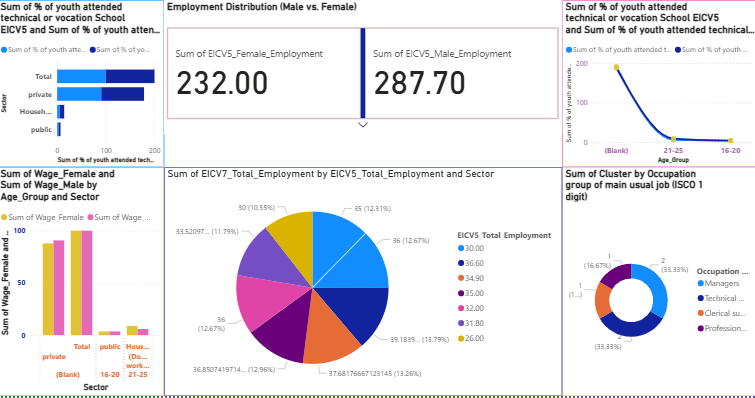

This screenshot's page, from the dashboard's own definition file:
{"tool":"powerbi","page":{"name":"Page 1","canvas":[1280,720],"ordinal":0},"visuals":[{"type":"barChart","fields":{"Y":["Sum(Sheet1 (4).% of youth attended technical or vocation School EICV5)","Sum(Sheet1 (4).% of youth attended technical or vocation School EICV7)"],"Category":["Sheet1 (4).Sector"]},"box":[3.4,55.4,280.5,280.5],"z":0},{"type":"clusteredColumnChart","fields":{"Category":["Sheet1 (4).Age_Group","Sheet1 (4).Sector"],"Y":["Sum(Sheet1 (4).Wage_Female)","Sum(Sheet1 (4).Wage_Male)"]},"box":[3.4,336,280.5,384.7],"z":1000},{"type":"lineChart","fields":{"Category":["Sheet1 (4).Age_Group"],"Y":["Sum(Sheet1 (4).% of youth attended technical or vocation School EICV5)","Sum(Sheet1 (4).% of youth attended technical or vocation School EICV7)"]},"box":[952.4,55.4,327.6,280.5],"z":2000},{"type":"donutChart","fields":{"Y":["Sum(Sheet1 (4).Cluster)"],"Category":["Sheet1 (4).Occupation group of main usual job (ISCO 1 digit) "]},"box":[952.4,336,327.6,384.7],"z":3000},{"type":"pieChart","fields":{"Category":["Sheet1 (4).EICV5_Total_Employment"],"Y":["Sum(Sheet1 (4).EICV7_Total_Employment)"],"Series":["Sheet1 (4).Sector"]},"box":[283.9,336,668.6,384.7],"z":4000},{"type":"actionButton","box":[0,0,100,40],"z":5000},{"type":"cardVisual","title":"Employment Distribution (Male vs. Female)","fields":{"Data":["Sum(Sheet1 (4).EICV5_Female_Employment)","Sum(Sheet1 (4).EICV5_Male_Employment)","Sum(Sheet1 (4).EICV7_Male_Employment)","Sum(Sheet1 (4).EICV7_Female_Employment)"]},"box":[283.9,55.4,668.6,225.1],"z":6001}]}

Visuals, with their boxes on the page's 1280x720 design canvas (x1, y1, x2, y2). These are canvas units, not pixel positions in the 755x398 screenshot, which may show the page scaled, cropped or inside an application window:
barChart - Sum(Sheet1 (4).% of youth attended technical or vocation School EICV5) x Sum(Sheet1 (4).% of youth attended technical or vocation School EICV7): (x1=3, y1=55, x2=284, y2=336)
clusteredColumnChart - Sheet1 (4).Age_Group x Sheet1 (4).Sector: (x1=3, y1=336, x2=284, y2=721)
lineChart - Sheet1 (4).Age_Group x Sum(Sheet1 (4).% of youth attended technical or vocation School EICV5): (x1=952, y1=55, x2=1280, y2=336)
donutChart - Sum(Sheet1 (4).Cluster) x Sheet1 (4).Occupation group of main usual job (ISCO 1 digit) : (x1=952, y1=336, x2=1280, y2=721)
pieChart - Sheet1 (4).EICV5_Total_Employment x Sum(Sheet1 (4).EICV7_Total_Employment): (x1=284, y1=336, x2=952, y2=721)
actionButton: (x1=0, y1=0, x2=100, y2=40)
"Employment Distribution (Male vs. Female)" cardVisual: (x1=284, y1=55, x2=952, y2=280)
